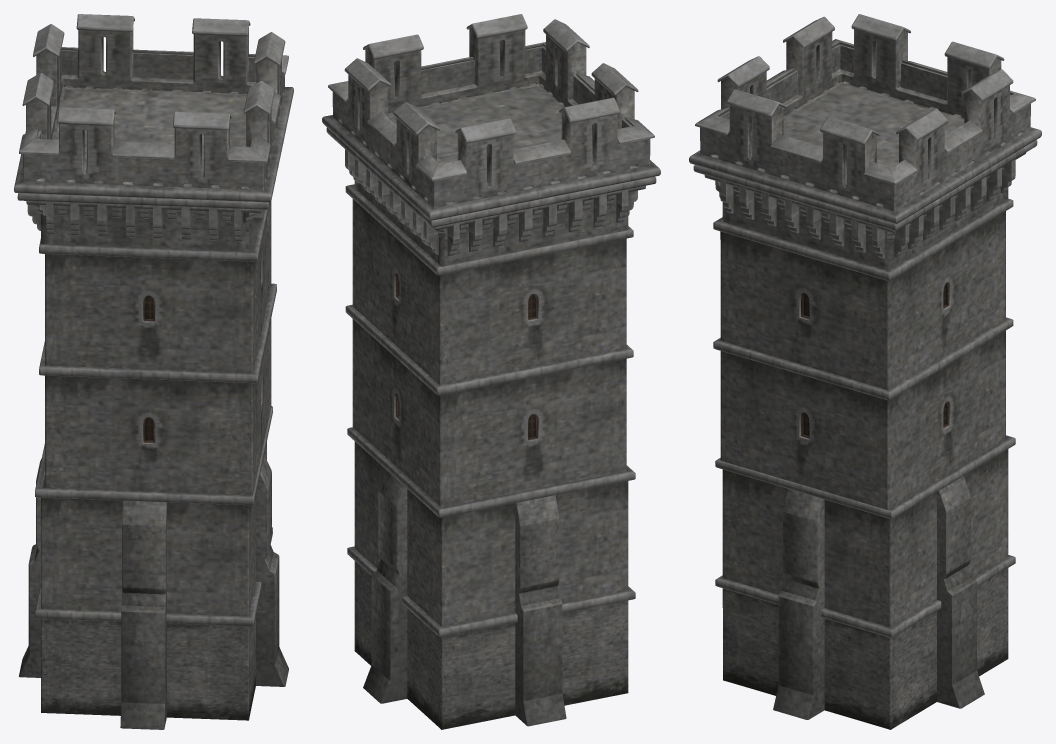
File: Castle_Tower_Square_A4.fbx
3 renders of one model, left to right at view 1: azimuth 30°, elevation 25°; view 2: azimuth 150°, elevation 25°; view 3: azimuth 270°, elevation 25°, orthographic.
Parts seen in each view (by area): view 1: Castle_Tower_Square_A.004; view 2: Castle_Tower_Square_A.004; view 3: Castle_Tower_Square_A.004.
Boxes of the visible parts, x1=… form: Castle_Tower_Square_A.004: x1=14, y1=14, x2=293, y2=729; Castle_Tower_Square_A.004: x1=322, y1=14, x2=660, y2=729; Castle_Tower_Square_A.004: x1=689, y1=14, x2=1041, y2=729.
Size of the model in its own units: 862 by 1610 by 862.
